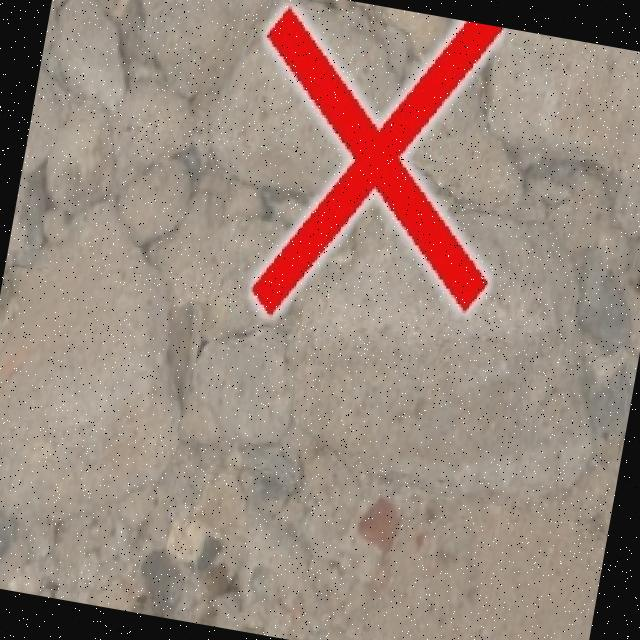x_marker: (218, 0, 530, 350)
